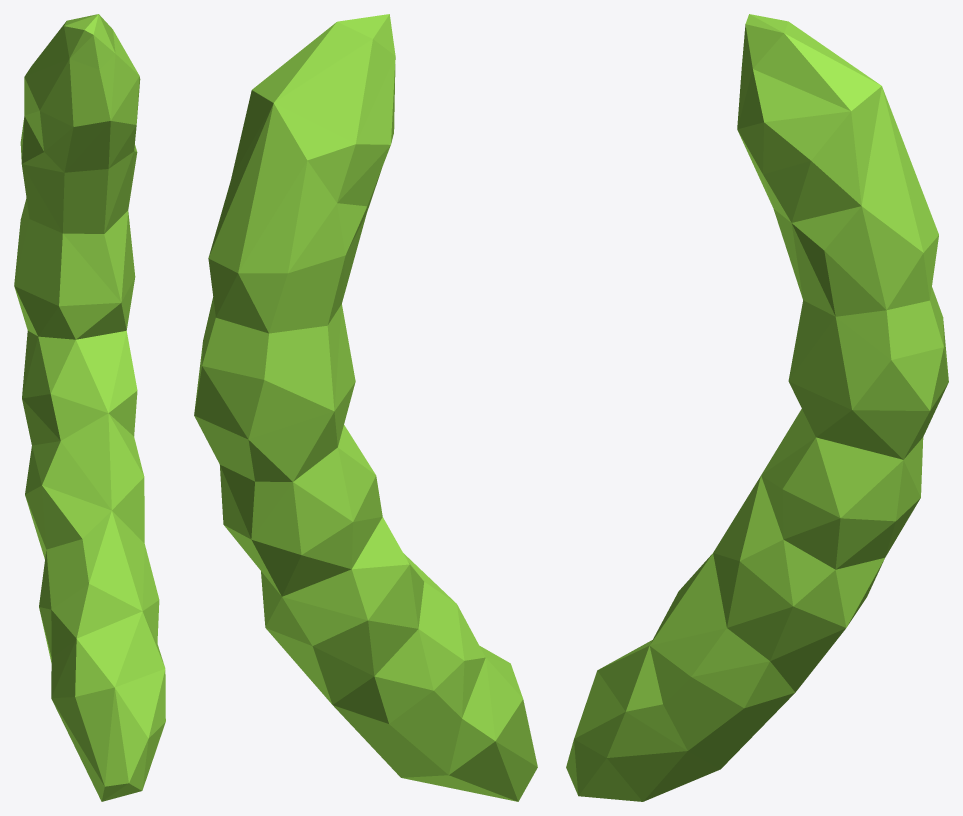
File: haricot-optimized.glb
3 views of the same model, side by side, from view 1: azimuth 30°, elevation 25°; view 2: azimuth 150°, elevation 25°; view 3: azimuth 270°, elevation 25° (orthographic). The views are drawn at different scales.
Parts seen in each view (by area): view 1: Cylinder; view 2: Cylinder; view 3: Cylinder.
Boxes of the visible parts, x1,y1,x2,y2 form: Cylinder: (14, 14, 165, 801); Cylinder: (194, 14, 537, 801); Cylinder: (566, 14, 948, 801).
Size of the model in its own units: 0.2117 by 0.9031 by 0.3888.
